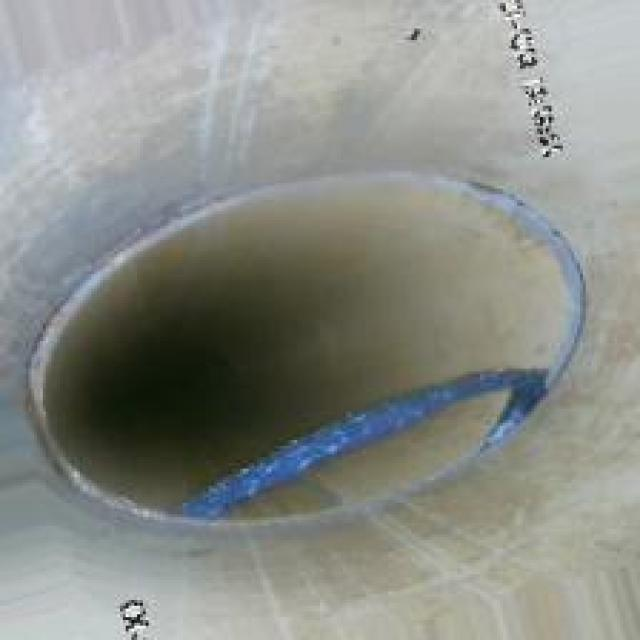joint: (26, 157, 614, 534)
